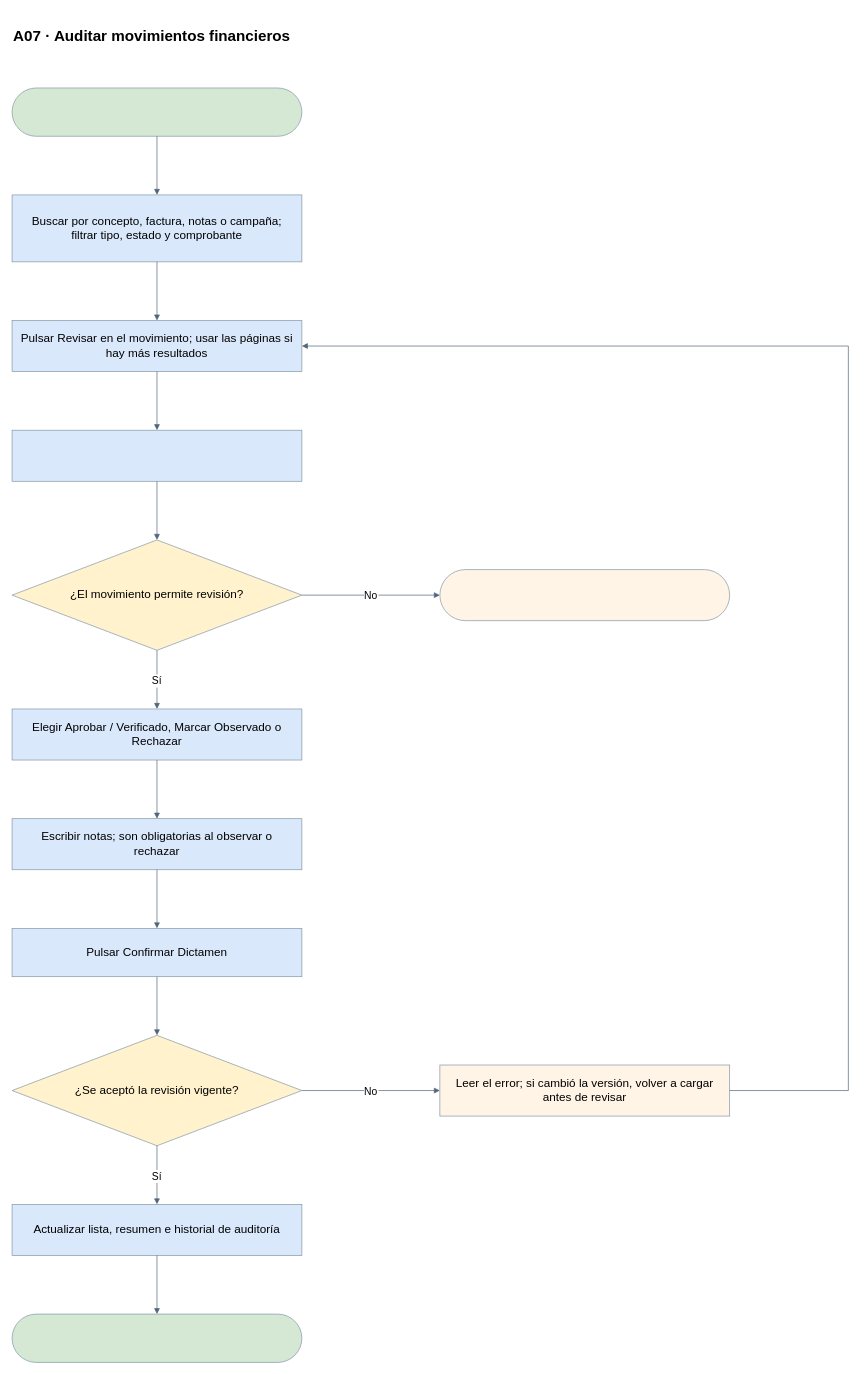
The diagram is 866 pixels wide and 1374 high, and some of its shapes have lost their labels. Each missing label, with the centre of its shape:
"Consultar solamente: los movimientos del sistema o bloqueados no son revisables" goes at point 584,595.
"Fin" goes at point 156,1337.
"Inicio" goes at point 156,111.
"Revisar importe, categoría, comprobante, versiones e historial" goes at point 156,455.
